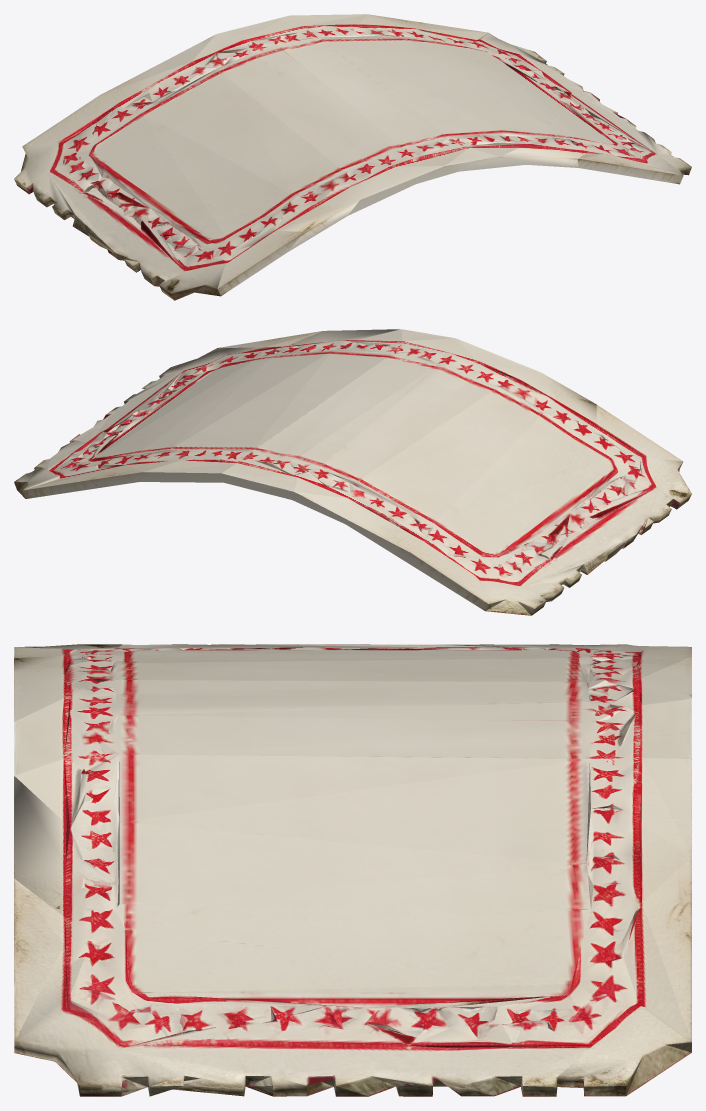
Rendered from Ticket.fbx.
3 renders of one model, top to bottom at view 1: azimuth 30°, elevation 25°; view 2: azimuth 150°, elevation 25°; view 3: azimuth 270°, elevation 25°, orthographic. The views are drawn at different scales.
Parts seen in each view (by area): view 1: Mesh_0; view 2: Mesh_0; view 3: Mesh_0.
Part boxes in pixels (left/top/right/bottom): Mesh_0: left=14, top=14, right=691, bottom=300; Mesh_0: left=14, top=329, right=691, bottom=615; Mesh_0: left=14, top=644, right=691, bottom=1096.
Bounding box in the file's own units: 190 × 30.58 × 123.
1 material, 1 textured.
